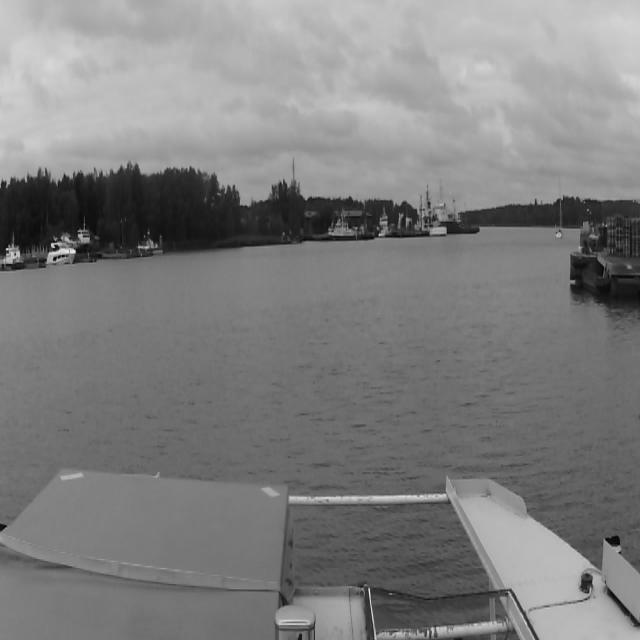ship: (415, 184, 447, 237), (328, 209, 361, 241), (45, 236, 76, 266), (556, 170, 562, 239)
